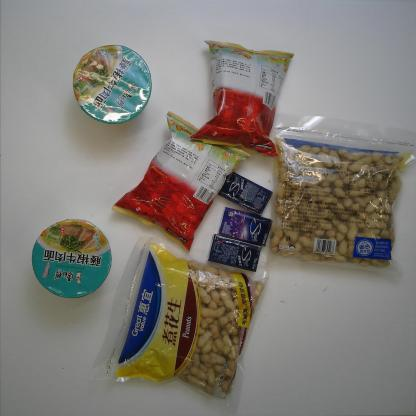Dried Food: (84, 232, 270, 415), (256, 113, 416, 286)
Gum: (216, 171, 275, 216), (206, 232, 263, 273), (216, 206, 274, 246)
Instant Noodles: (70, 42, 152, 128), (30, 219, 114, 300)
Puffed Food: (110, 108, 254, 256), (185, 36, 297, 158)
